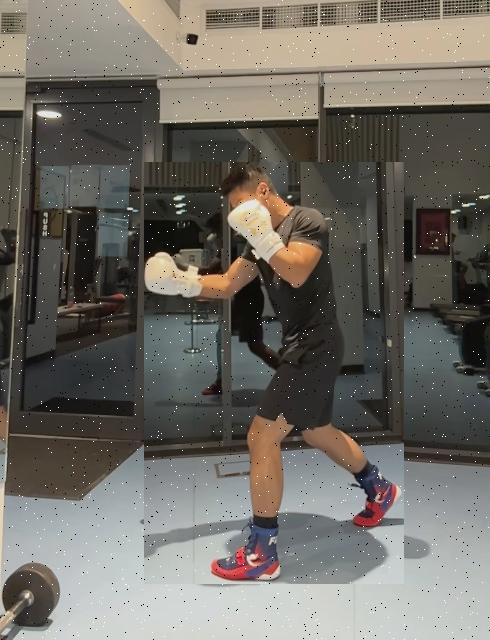punch: (144, 162, 404, 584)
